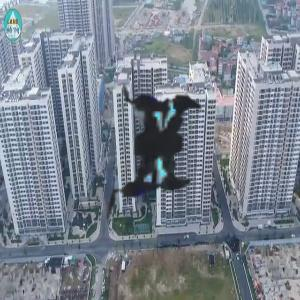drone: (10, 6, 289, 285)
